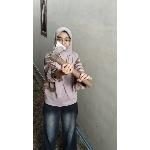Kapak: (48, 39, 92, 86)
